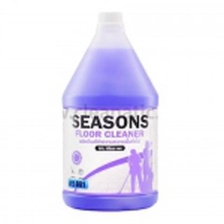cleaning_solution: (57, 7, 162, 215)
